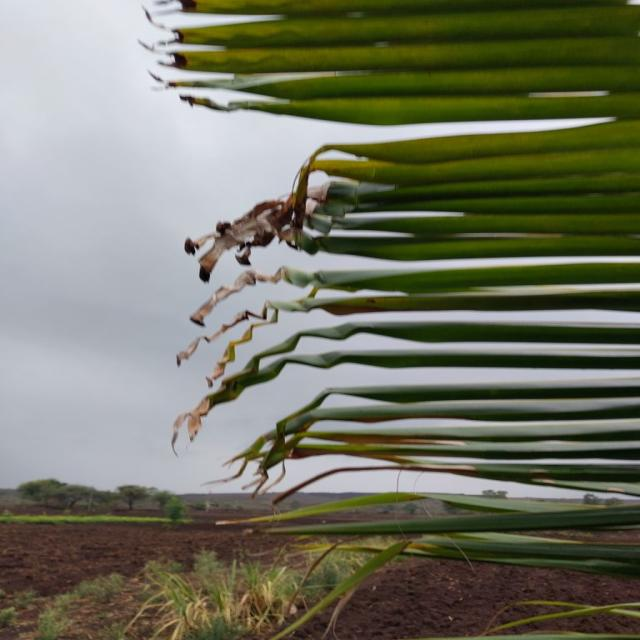leaf rot: (164, 145, 428, 530)
